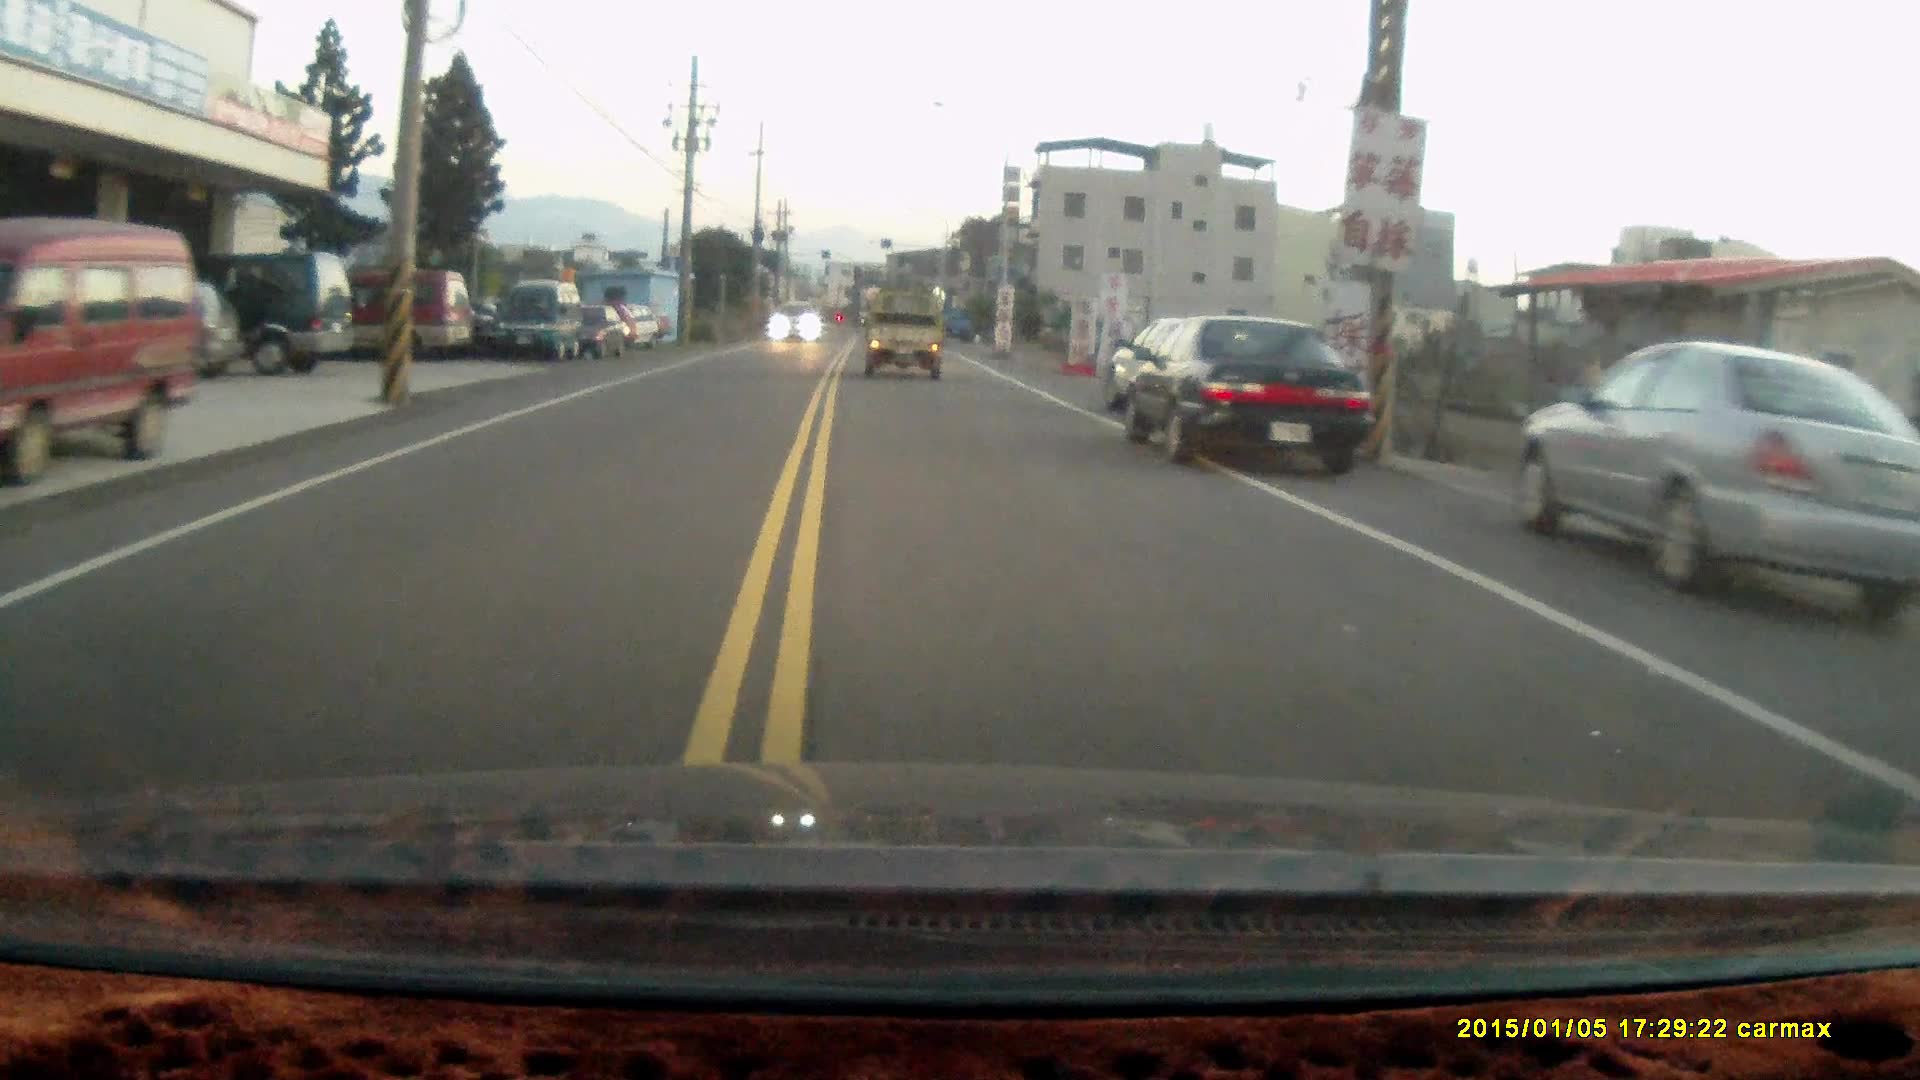vehicle: (1518, 342, 1920, 630), (3, 222, 203, 480), (1117, 313, 1375, 481), (125, 247, 360, 375), (301, 274, 473, 367), (862, 294, 949, 386), (493, 285, 589, 368), (550, 306, 633, 365), (766, 306, 823, 347)
